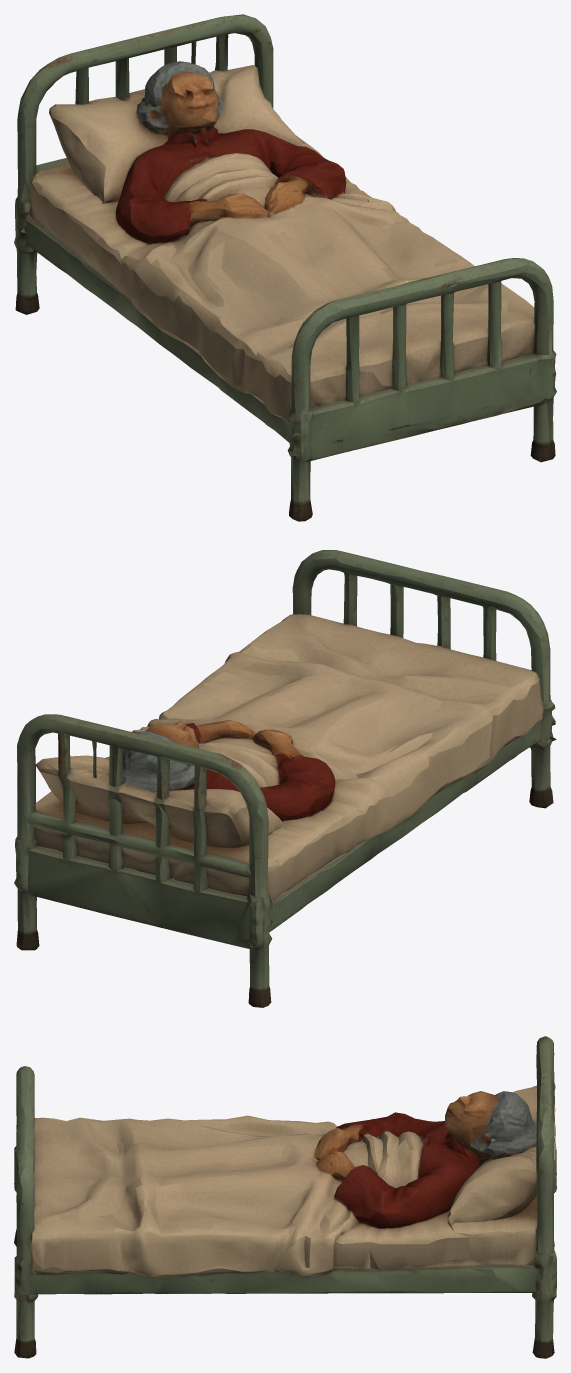
The model's file is bed.glb.
The picture shows the model from 3 angles, top to bottom: view 1: azimuth 30°, elevation 25°; view 2: azimuth 150°, elevation 25°; view 3: azimuth 270°, elevation 25°; orthographic projection. The views are drawn at different scales.
Parts seen in each view (by area): view 1: world; view 2: world; view 3: world.
Part boxes in pixels (box(x1,y1,x2,y2)): world: box(14, 14, 556, 521); world: box(14, 550, 556, 1007); world: box(14, 1036, 556, 1358).
Size of the model in its own units: 0.5393 by 0.4648 by 1.
1 material, 1 textured.
